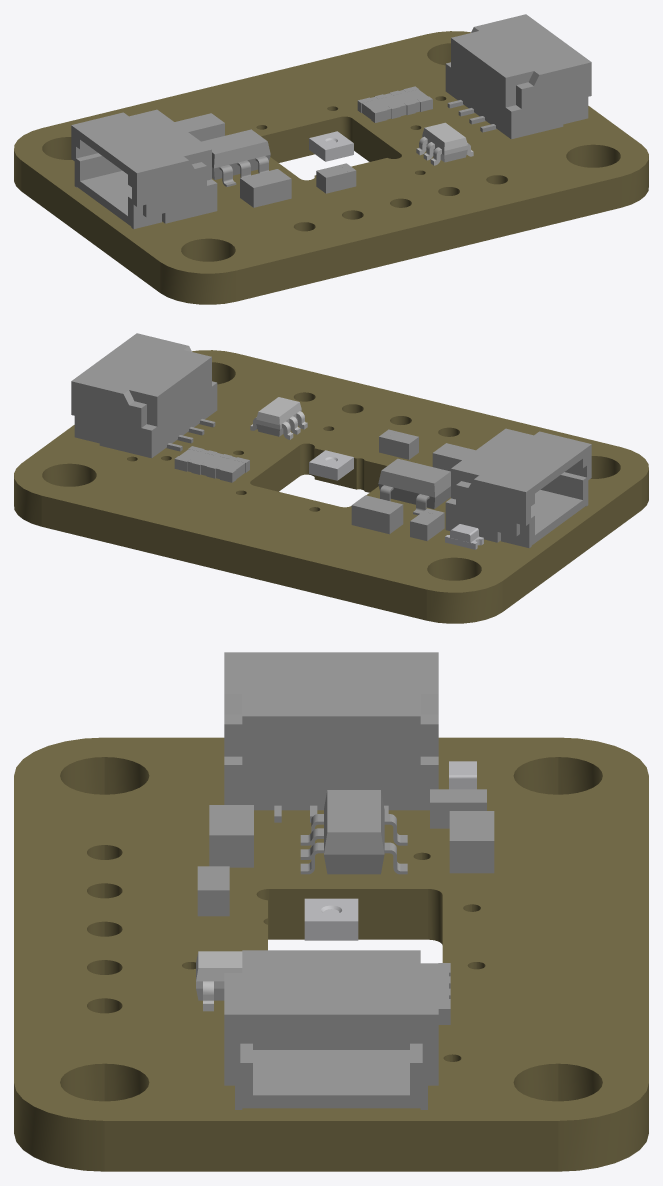
File: ada-5665.glb
3 renders of one model, top to bottom at view 1: azimuth 30°, elevation 25°; view 2: azimuth 150°, elevation 25°; view 3: azimuth 270°, elevation 25°, orthographic. The views are drawn at different scales.
Visible parts, largest first — view 1: 0.16666666666666666_0.16666666666666666_0.08333333333333333_, 0.3333333333333333_0.3333333333333333_0.3333333333333333_0, 0.5_0.5_0.5_0.85, 0.5833333333333334_0.5833333333333334_0.5833333333333334_0.8; view 2: 0.16666666666666666_0.16666666666666666_0.08333333333333333_, 0.3333333333333333_0.3333333333333333_0.3333333333333333_0, 0.5833333333333334_0.5833333333333334_0.5833333333333334_0.8, 0.5_0.5_0.5_0.85; view 3: 0.16666666666666666_0.16666666666666666_0.08333333333333333_, 0.3333333333333333_0.3333333333333333_0.3333333333333333_0, 0.5833333333333334_0.5833333333333334_0.5833333333333334_0.8, 0.5_0.5_0.5_0.85.
Part boxes in pixels (left/top/right/bottom): 0.16666666666666666_0.16666666666666666_0.08333333333333333_: left=14, top=31, right=648, bottom=304; 0.3333333333333333_0.3333333333333333_0.3333333333333333_0: left=71, top=14, right=591, bottom=229; 0.5_0.5_0.5_0.85: left=416, top=122, right=473, bottom=165; 0.5833333333333334_0.5833333333333334_0.5833333333333334_0.8: left=309, top=131, right=353, bottom=161; 0.16666666666666666_0.16666666666666666_0.08333333333333333_: left=14, top=350, right=648, bottom=623; 0.3333333333333333_0.3333333333333333_0.3333333333333333_0: left=71, top=333, right=591, bottom=548; 0.5833333333333334_0.5833333333333334_0.5833333333333334_0.8: left=309, top=450, right=483, bottom=549; 0.5_0.5_0.5_0.85: left=250, top=397, right=307, bottom=439; 0.16666666666666666_0.16666666666666666_0.08333333333333333_: left=14, top=737, right=648, bottom=1171; 0.3333333333333333_0.3333333333333333_0.3333333333333333_0: left=197, top=652, right=494, bottom=1109; 0.5833333333333334_0.5833333333333334_0.5833333333333334_0.8: left=304, top=761, right=476, bottom=940; 0.5_0.5_0.5_0.85: left=196, top=951, right=242, bottom=1011.
Bounding box in the file's own units: 2.54 × 0.4529 × 1.78.
